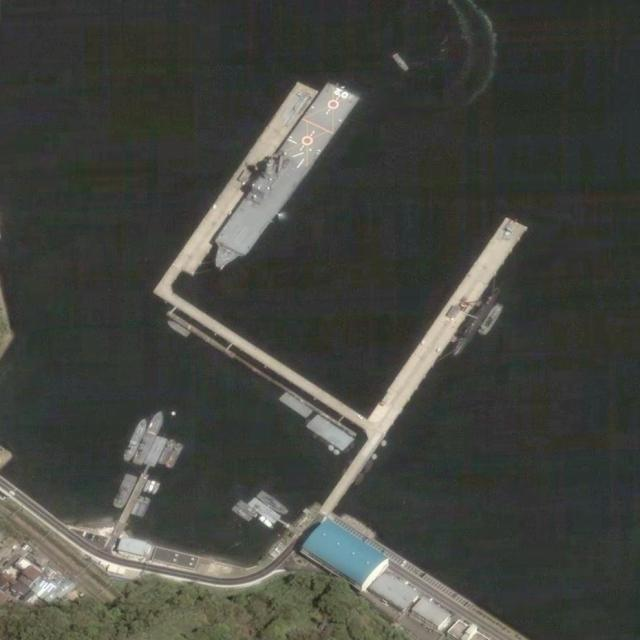Dock: (368, 211, 531, 427), (159, 77, 320, 293), (143, 434, 168, 469)
Landing: (200, 78, 360, 280)
Other Ship: (476, 302, 505, 338), (142, 479, 152, 494), (151, 482, 161, 496), (147, 480, 156, 494)
Other Warship: (133, 409, 166, 466), (122, 416, 151, 463), (111, 471, 138, 510), (256, 489, 289, 517), (165, 440, 186, 470), (158, 437, 177, 466), (230, 503, 253, 522), (236, 500, 258, 518)
Submarine: (450, 287, 501, 356)
